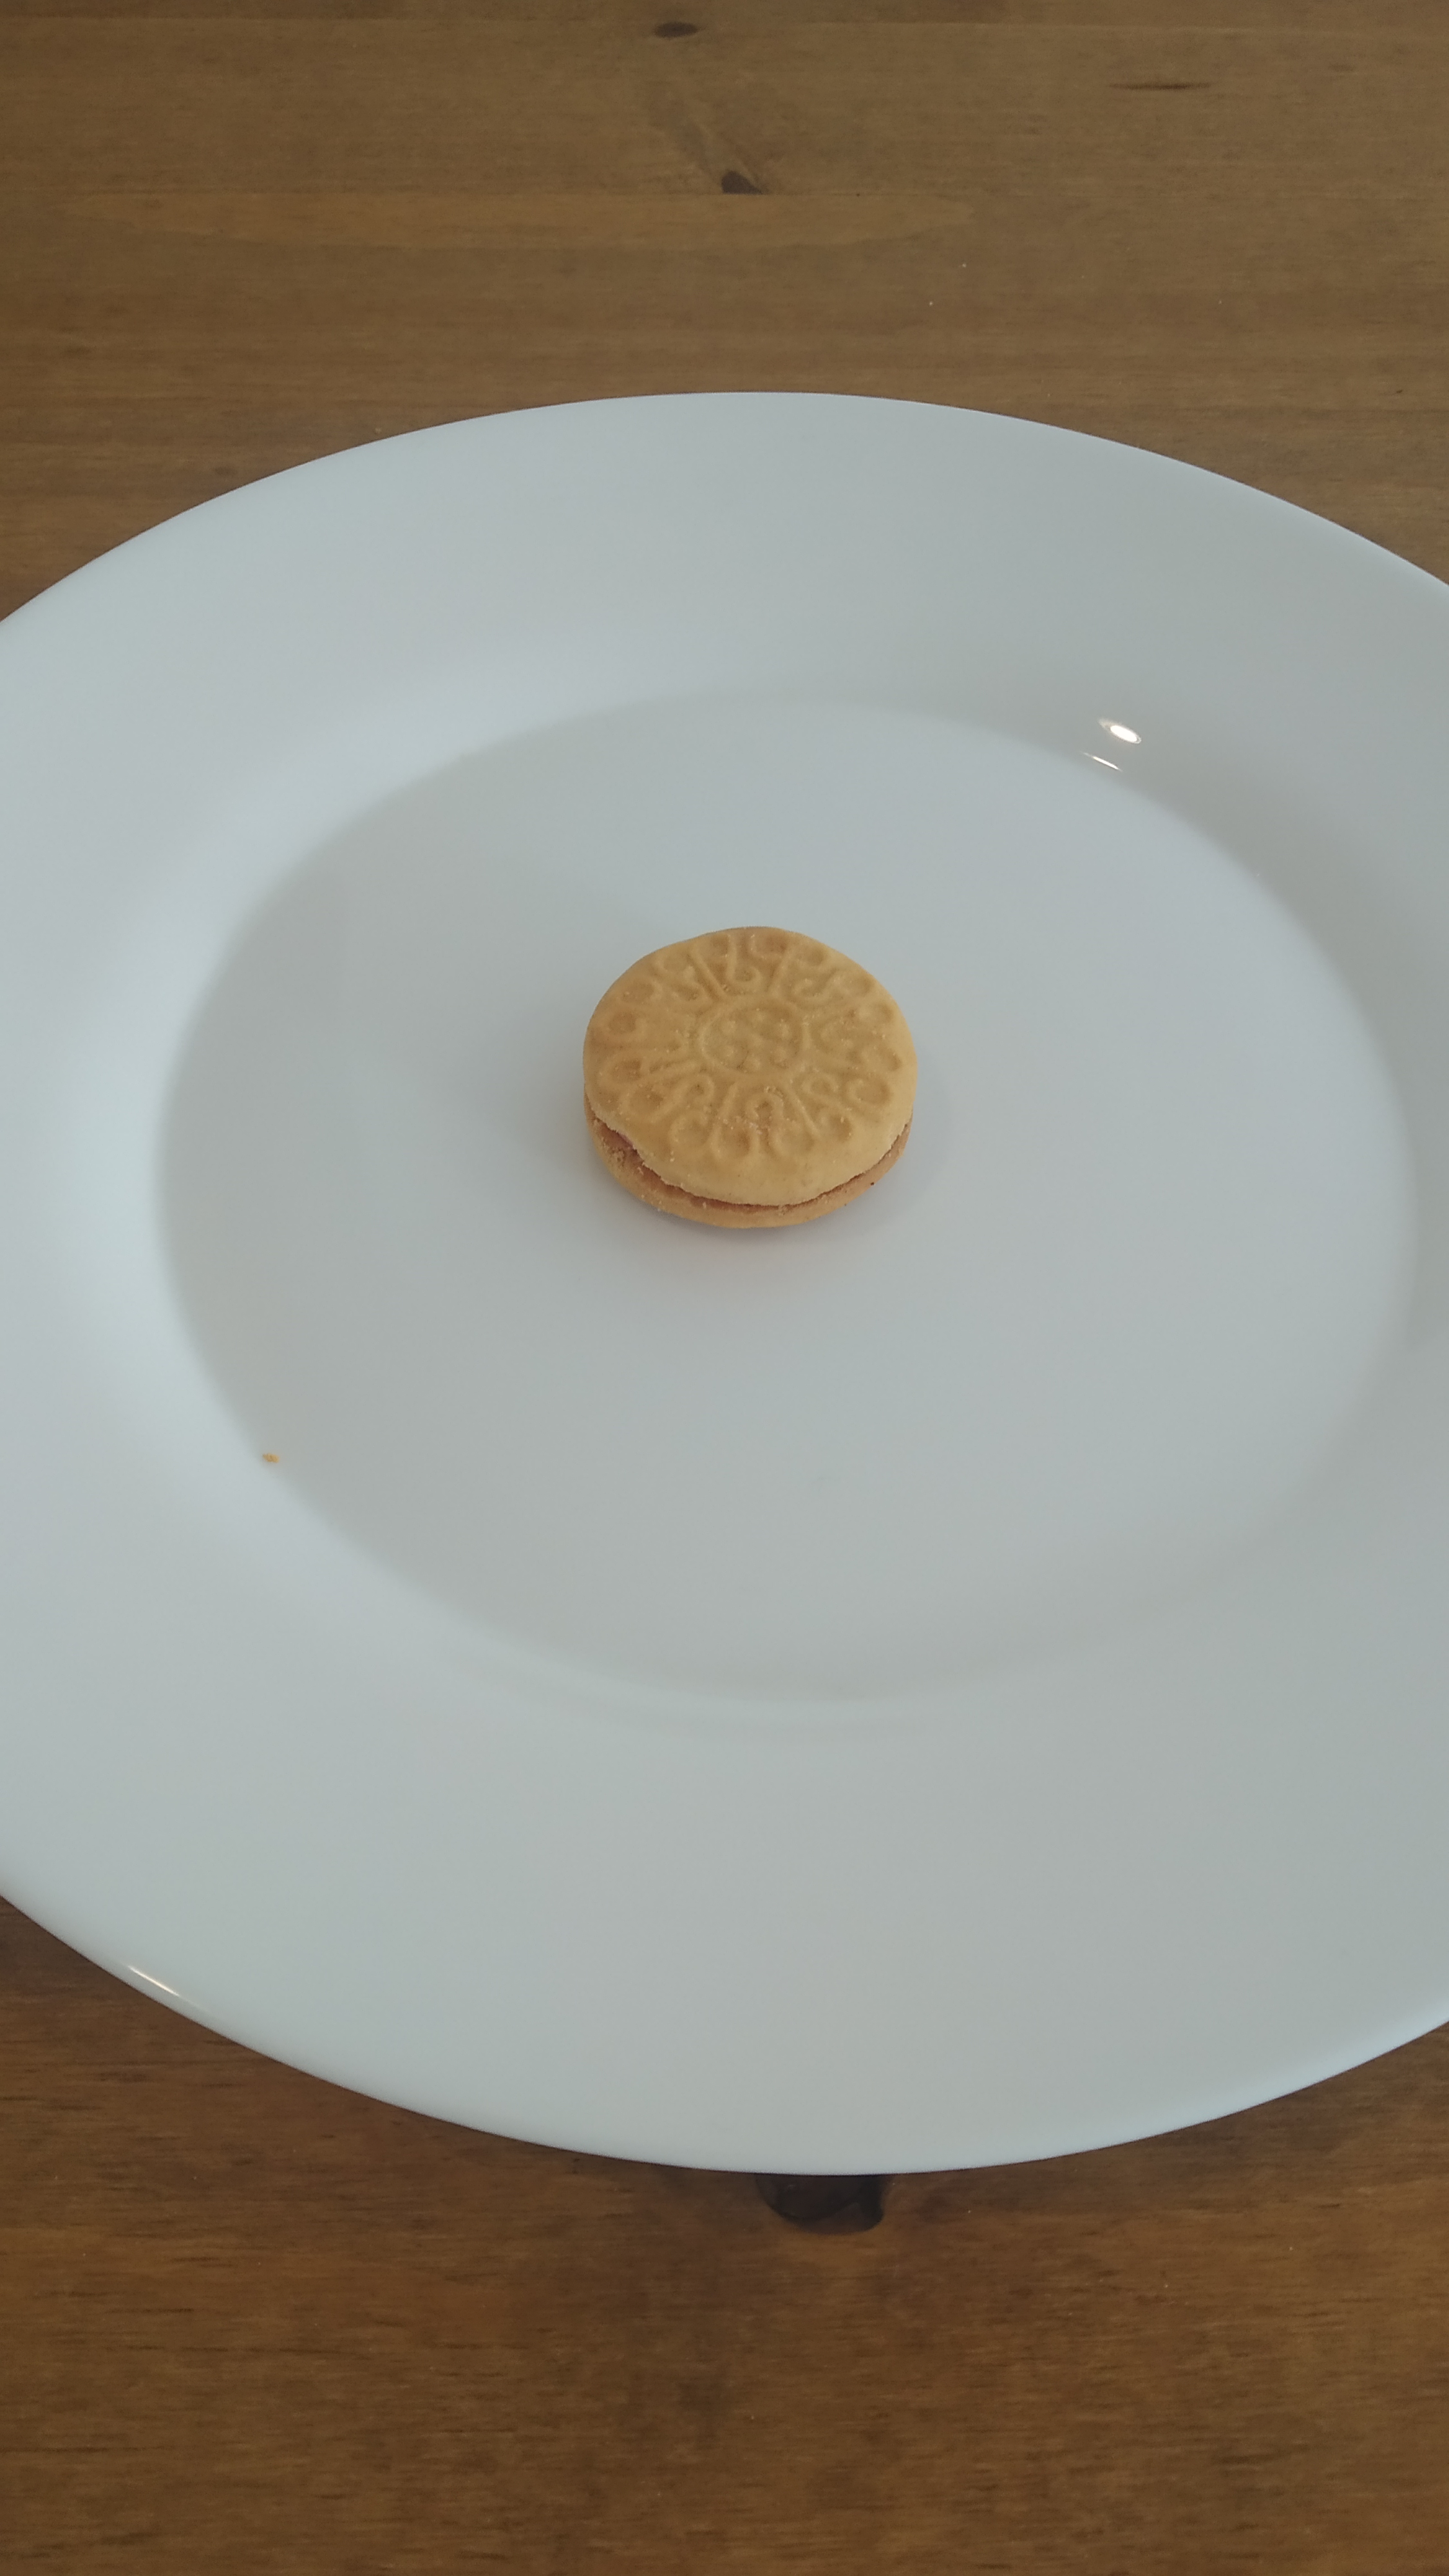lulu: (586, 925, 916, 1231)
